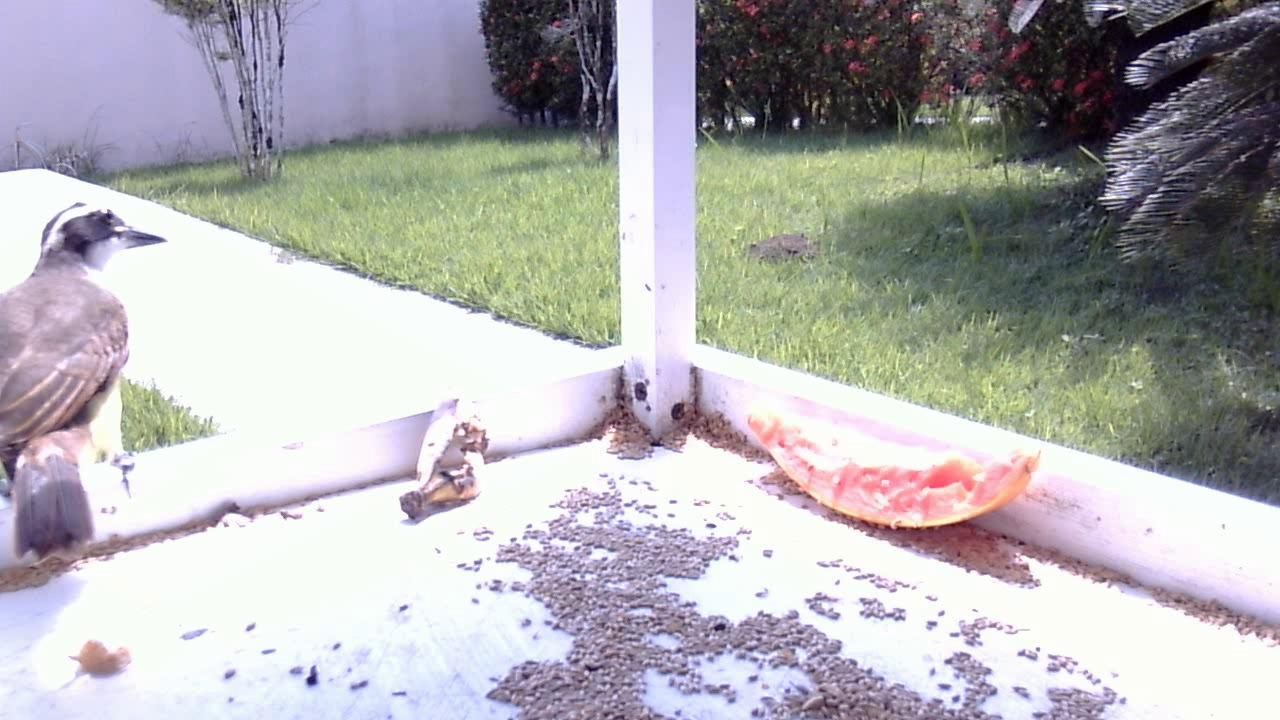bem_te_vi: (1, 172, 184, 570)
